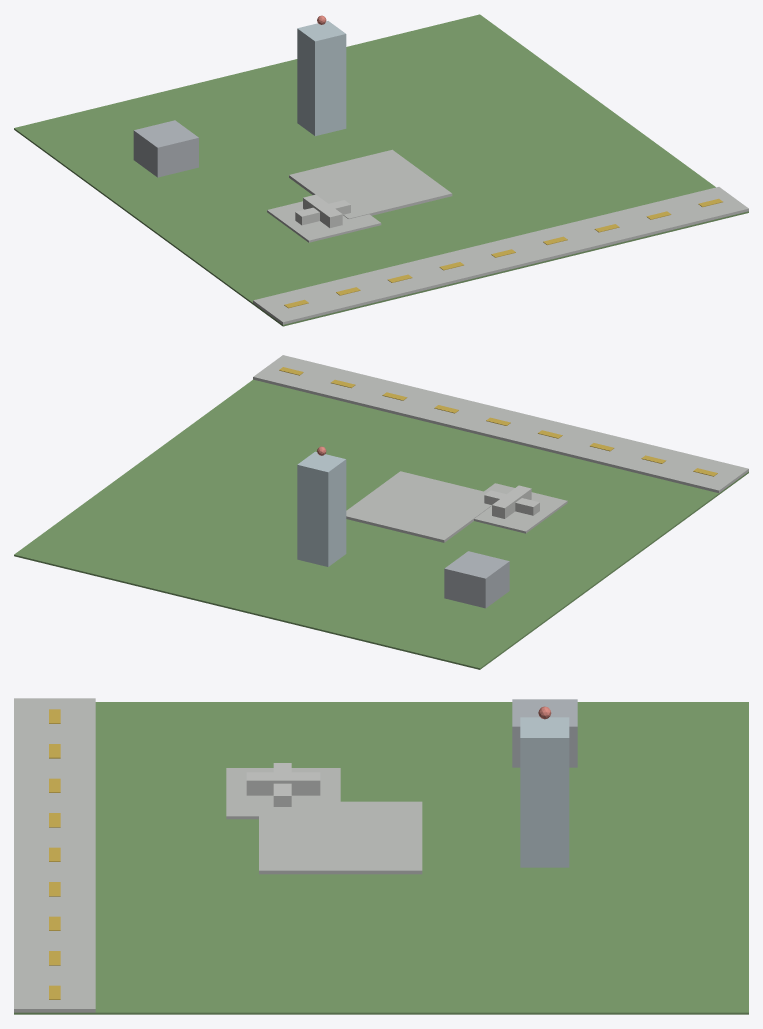
Rendered from stage_04.glb.
The picture shows the model from 3 angles, top to bottom: view 1: azimuth 30°, elevation 25°; view 2: azimuth 150°, elevation 25°; view 3: azimuth 270°, elevation 25°; orthographic projection. The views are drawn at different scales.
Visible parts, largest first — view 1: geometry_0; view 2: geometry_0; view 3: geometry_0.
Part boxes in pixels (x1,y1,x2,y2): geometry_0: (14,14,748,326); geometry_0: (14,355,748,669); geometry_0: (14,698,748,1014).
Size of the model in its own units: 9 by 2.06 by 9.
